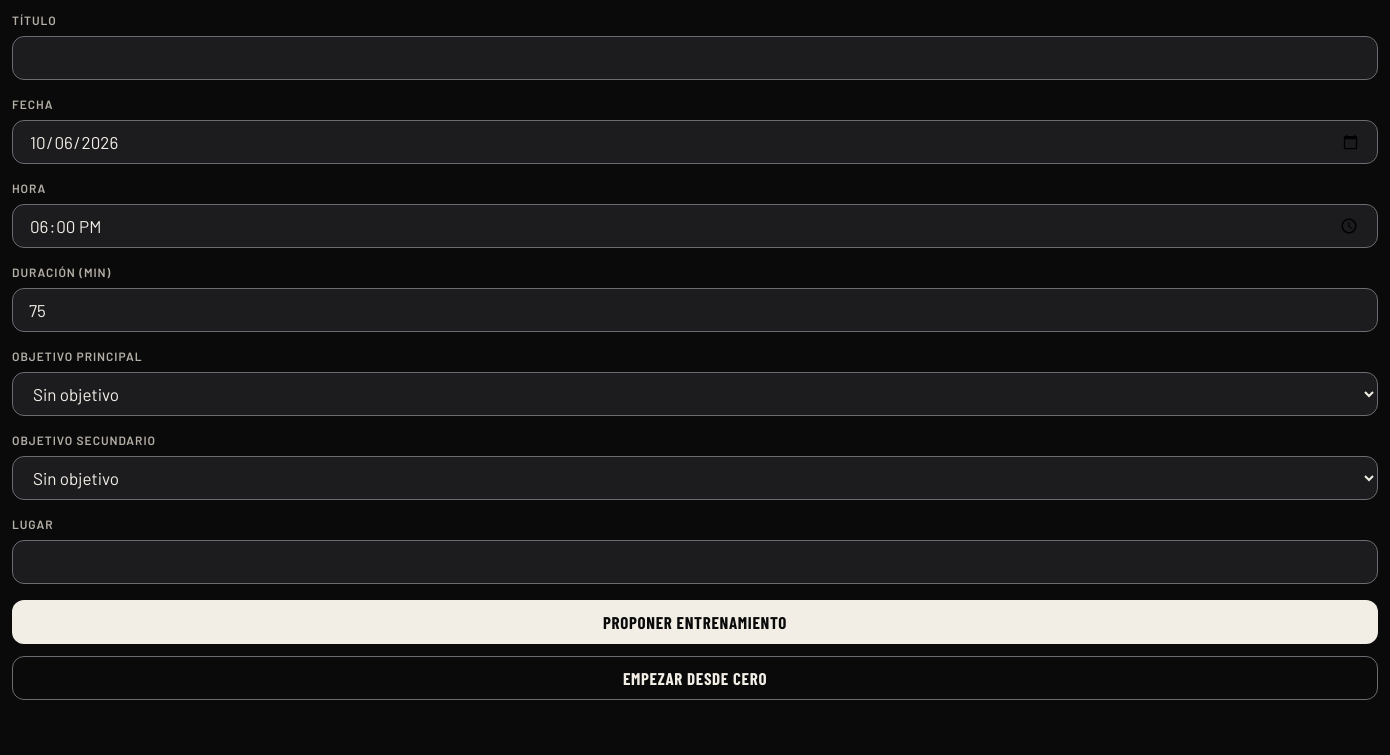
Test case: PracticeForm · nueva sesión › una duración vacía no se inventa: la acción la rechaza y el error sale bajo su campo
Type "Una sesión" into the field labelled "Título". click: (695, 58)
box: [12,36,1378,80]
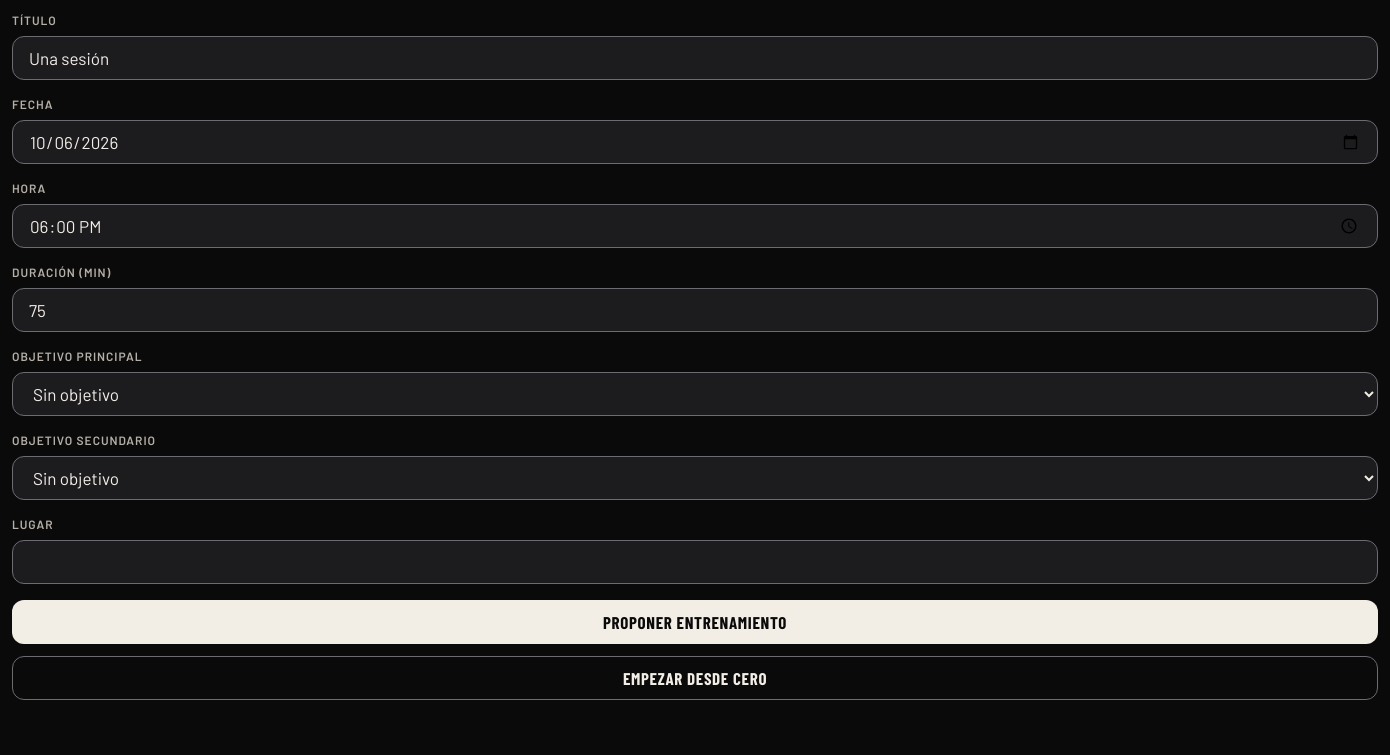
Clear the number field labelled "Duración (min)". click: (695, 310)
box: [12,288,1378,332]
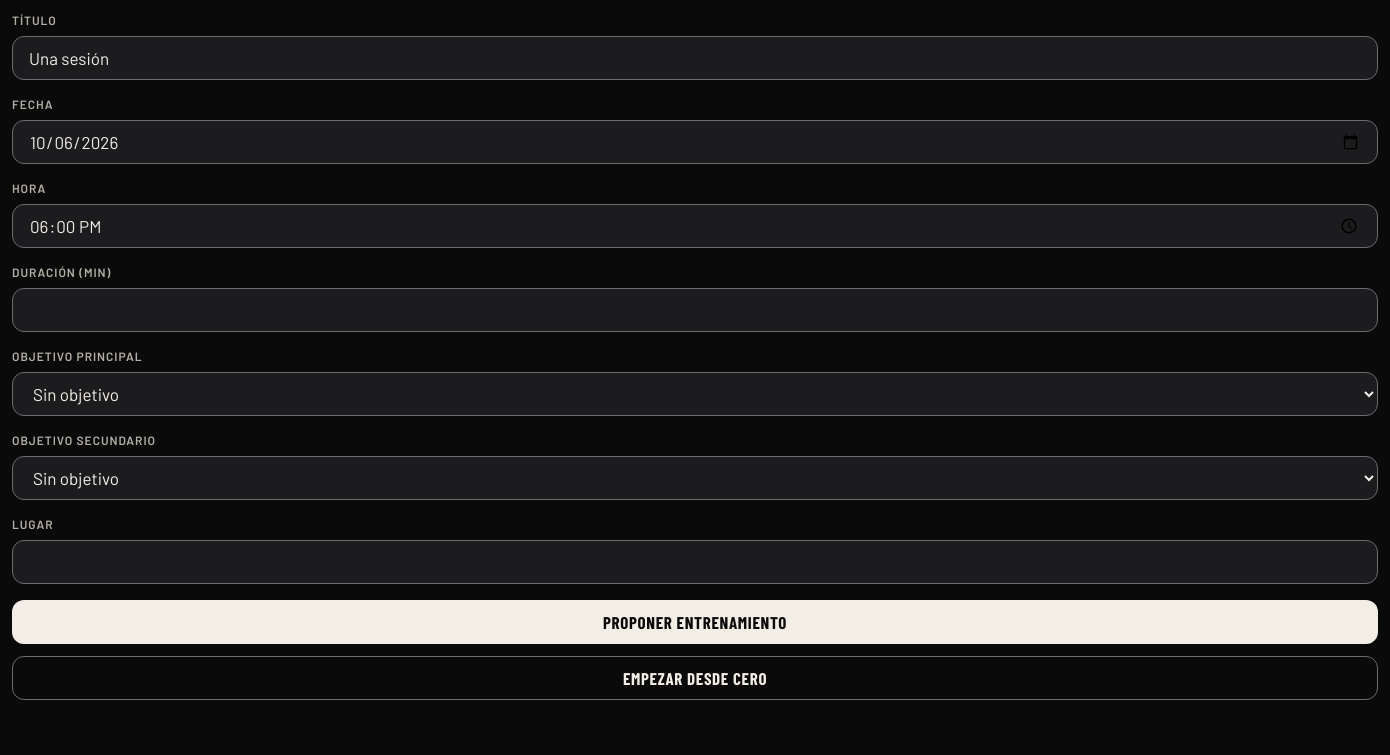
Click the button "Empezar desde cero". click: (695, 678)
box: [12,656,1378,700]
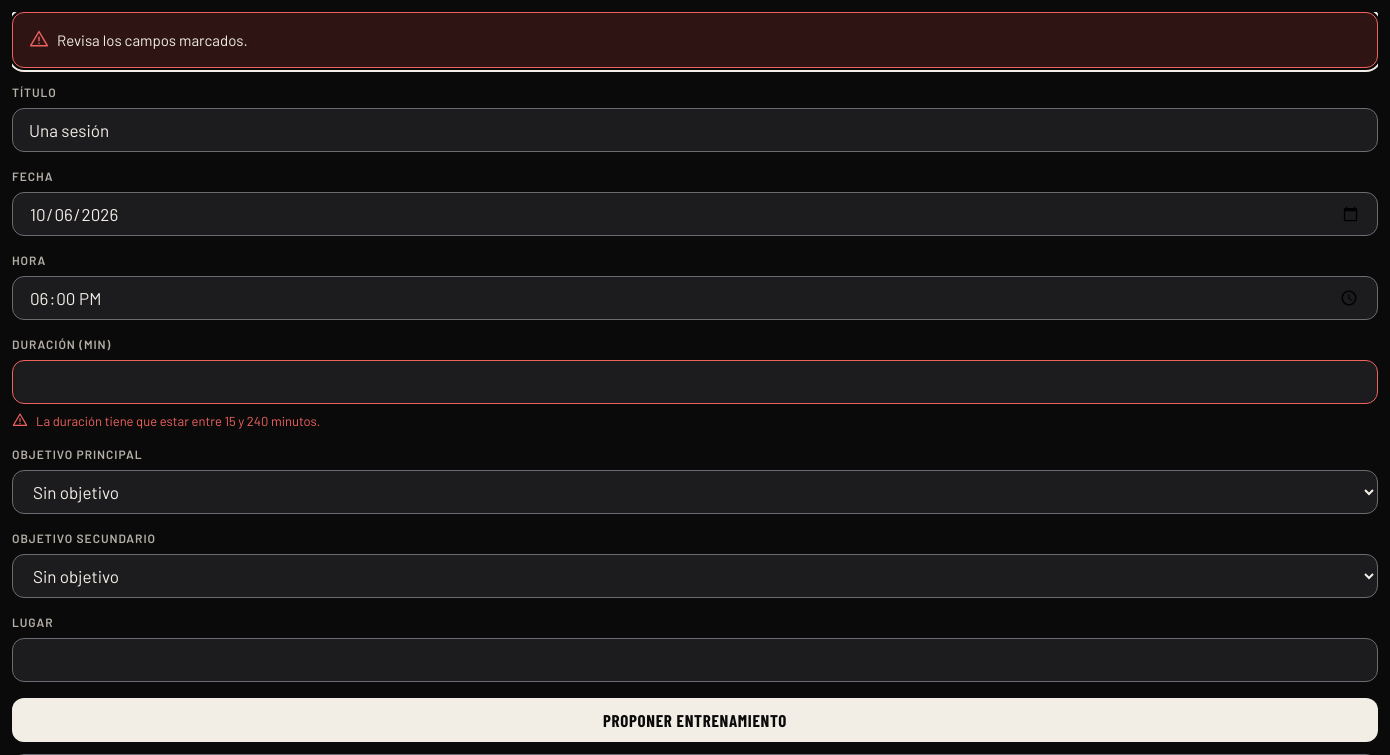
Now the text "La duración tiene que estar entre 15 y 240 minutos." is shown, box [12,412,320,429]
